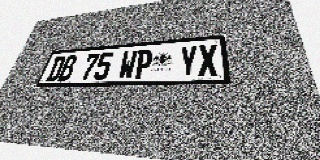5: (93, 52, 114, 80)
7: (79, 53, 100, 81)
B: (57, 55, 78, 81)
D: (45, 56, 67, 82)
P: (133, 49, 154, 79)
W: (117, 50, 138, 79)
X: (198, 44, 219, 77)
Y: (178, 45, 198, 77)
